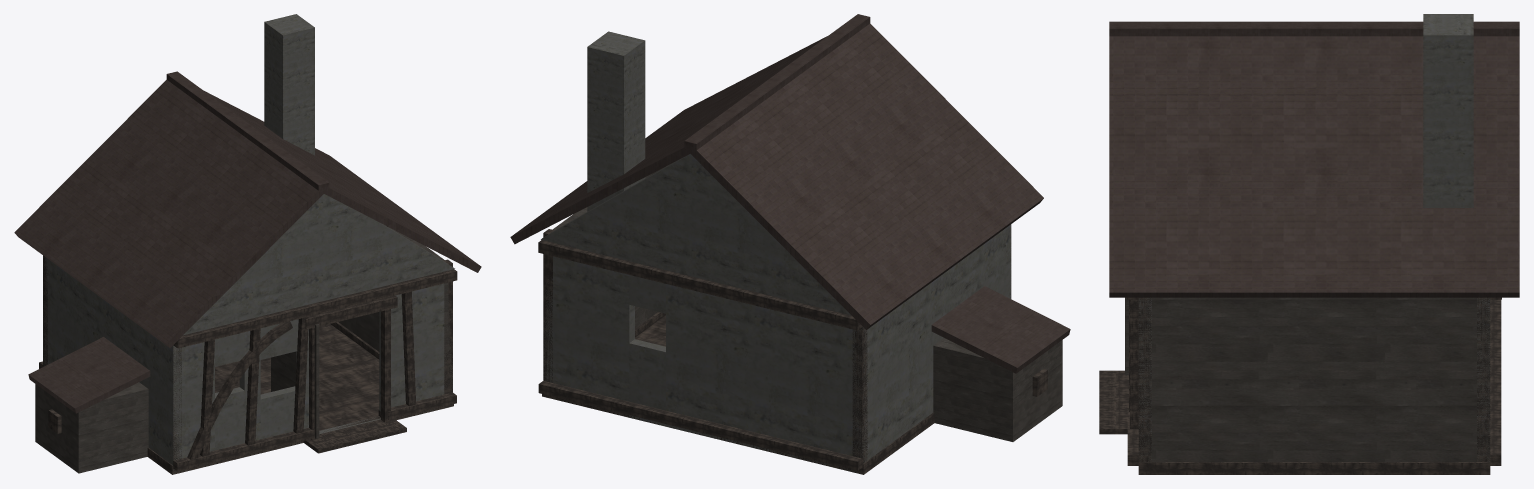
The model's file is prop_cottage_poor_b.glb.
3 renders of one model, left to right at view 1: azimuth 30°, elevation 25°; view 2: azimuth 150°, elevation 25°; view 3: azimuth 270°, elevation 25°, orthographic. The views are drawn at different scales.
Parts seen in each view (by area): view 1: prop_cottage_poor_b; view 2: prop_cottage_poor_b; view 3: prop_cottage_poor_b.
Part boxes in pixels (box(x1,y1,x2,y2)): prop_cottage_poor_b: box(14, 14, 481, 474); prop_cottage_poor_b: box(510, 14, 1070, 474); prop_cottage_poor_b: box(1099, 14, 1519, 474).
Bounding box in the file's own units: 6.94 × 5.56 × 5.02.
4 materials, 4 textured.
